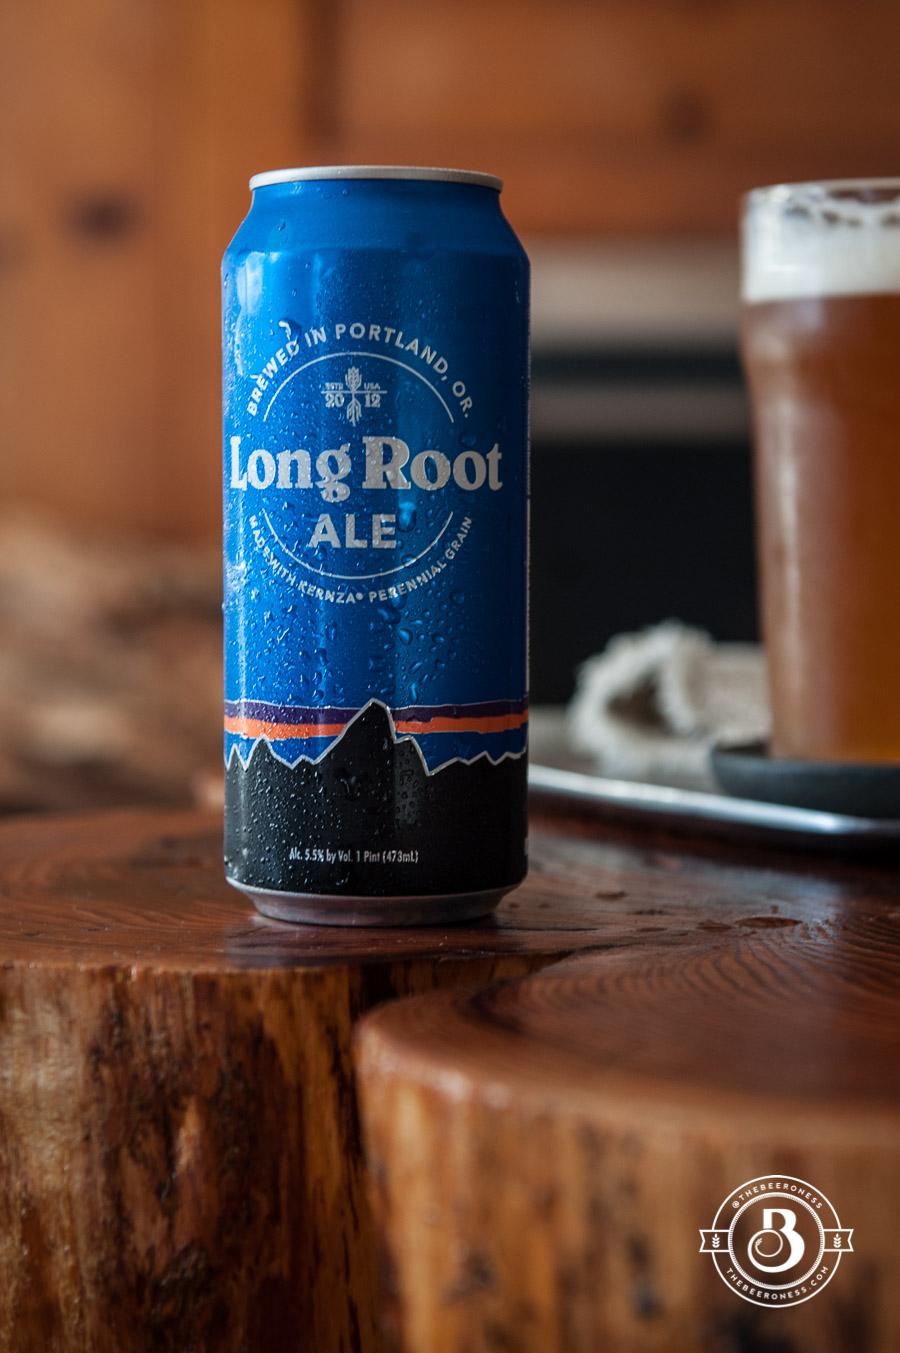beer can: (209, 162, 541, 945)
